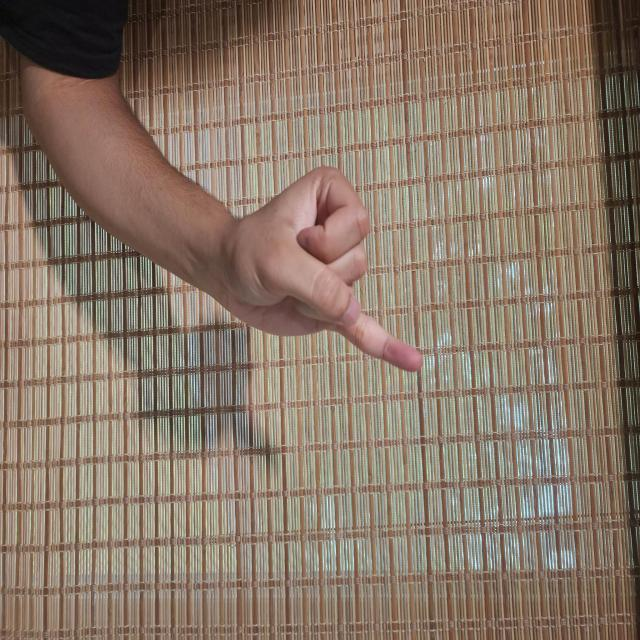I: (242, 239, 496, 583)
